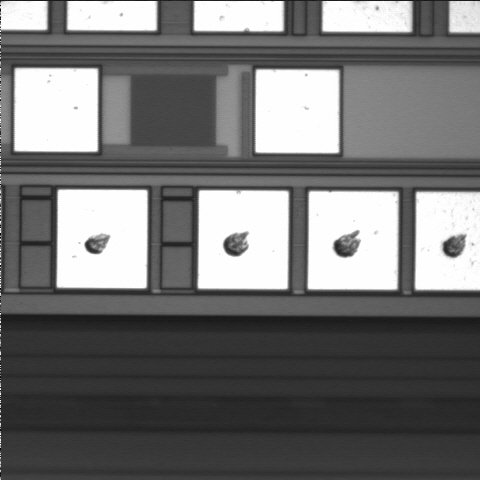pad: (198, 190, 289, 289), (308, 191, 398, 290), (57, 190, 147, 288), (15, 68, 98, 152), (256, 70, 339, 153)
